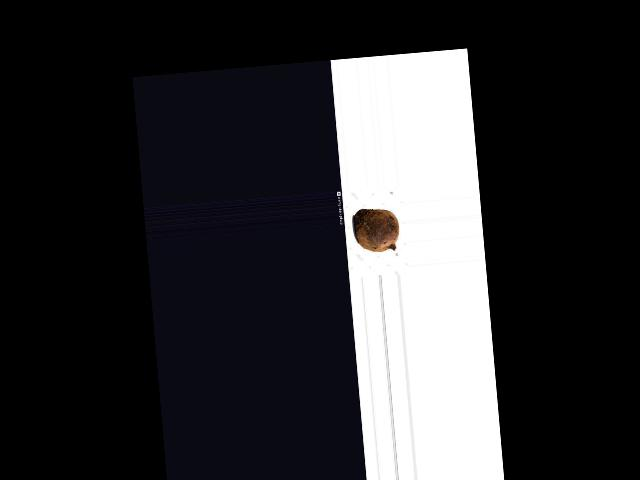beet: (352, 206, 400, 254)
